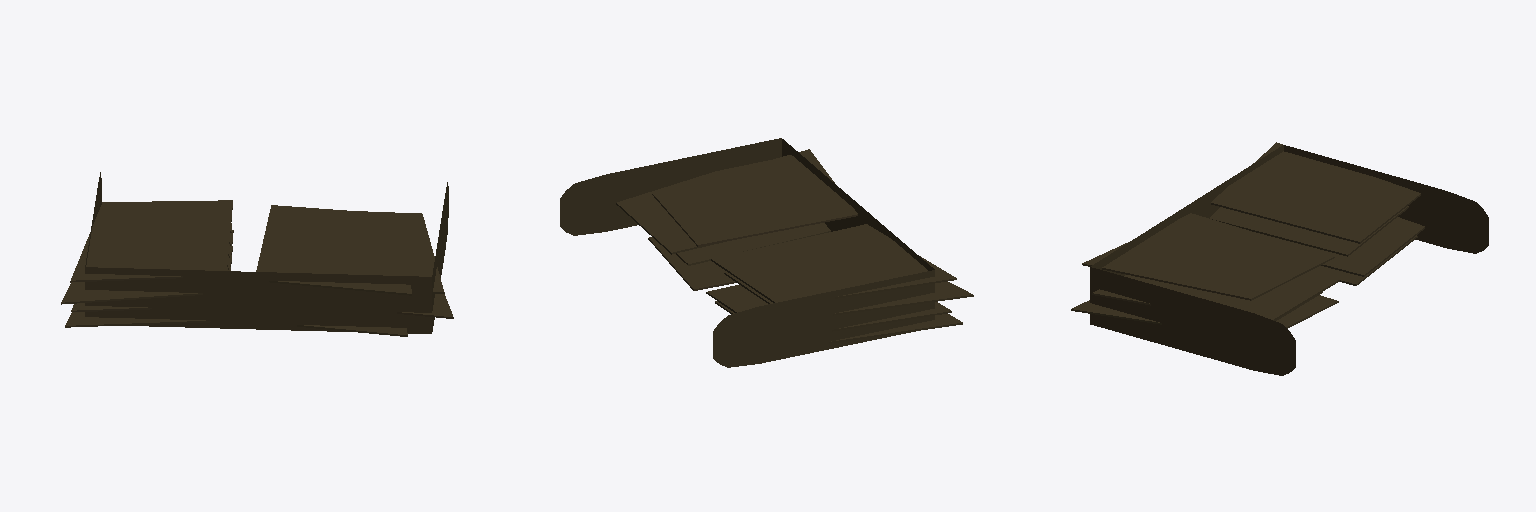
File: book_pages.obj
The picture shows the model from 3 angles: view 1: azimuth 30°, elevation 25°; view 2: azimuth 150°, elevation 25°; view 3: azimuth 270°, elevation 25°; orthographic projection.
Visible parts, largest first — view 1: Book1_Closed_Cube.013; view 2: Book1_Closed_Cube.013; view 3: Book1_Closed_Cube.013.
Boxes of the visible parts, x1=… form: Book1_Closed_Cube.013: x1=61, y1=172, x2=453, y2=336; Book1_Closed_Cube.013: x1=560, y1=138, x2=973, y2=367; Book1_Closed_Cube.013: x1=1071, y1=142, x2=1488, y2=375.
Bounding box in the file's own units: 0.9394 × 0.129 × 0.8494.